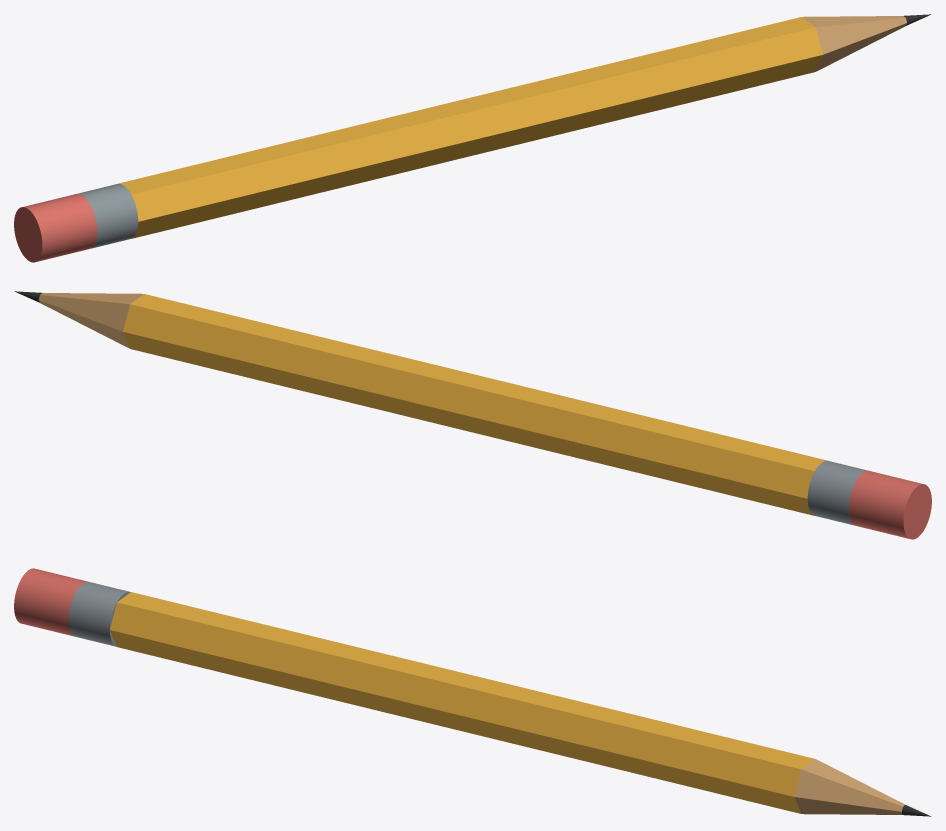
The model's file is pencil-sharp-facets.glb.
3 views of the same model, one above another, from view 1: azimuth 30°, elevation 25°; view 2: azimuth 150°, elevation 25°; view 3: azimuth 330°, elevation 25° (orthographic).
Parts seen in each view (by area): view 1: Refined_Pencil_Shaft, Refined_Pencil_Eraser, Refined_Pencil_Wood, Refined_Pencil_Ferrule; view 2: Refined_Pencil_Shaft, Refined_Pencil_Eraser, Refined_Pencil_Wood, Refined_Pencil_Ferrule; view 3: Refined_Pencil_Shaft, Refined_Pencil_Wood, Refined_Pencil_Eraser, Refined_Pencil_Ferrule.
Boxes of the visible parts, <box> form: Refined_Pencil_Shaft: <box>117,17,822,238</box>; Refined_Pencil_Eraser: <box>14,193,97,262</box>; Refined_Pencil_Wood: <box>802,16,906,71</box>; Refined_Pencil_Ferrule: <box>78,183,138,248</box>; Refined_Pencil_Shaft: <box>123,294,828,515</box>; Refined_Pencil_Eraser: <box>848,470,931,539</box>; Refined_Pencil_Wood: <box>39,293,143,348</box>; Refined_Pencil_Ferrule: <box>807,460,867,525</box>; Refined_Pencil_Shaft: <box>110,592,815,813</box>; Refined_Pencil_Wood: <box>794,759,905,814</box>; Refined_Pencil_Eraser: <box>14,568,87,636</box>; Refined_Pencil_Ferrule: <box>68,581,130,646</box>.
Size of the model in its own units: 0.198 by 0.0108 by 0.0108.
